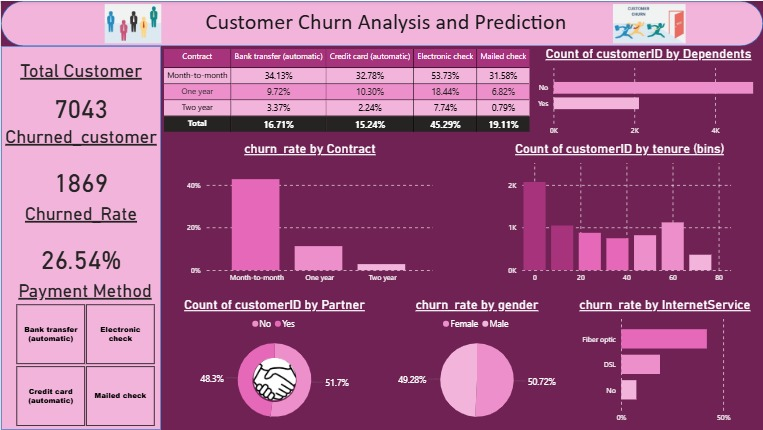

This screenshot's page, from the dashboard's own definition file:
{"tool":"powerbi","page":{"name":"Mathan","canvas":[1280,720],"ordinal":0},"visuals":[{"type":"shape","box":[0,0,1280,75.6],"z":0},{"type":"textbox","box":[285.6,6.7,722.3,63.8],"z":1000},{"type":"shape","box":[0,75.6,268.8,645],"z":2000},{"type":"card","title":"Total Customer","fields":{"Values":["Telco_Customer_Churn_Dataset  (.total_cust"]},"box":[23.5,99.1,221.7,122.6],"z":3000},{"type":"card","title":"Churned_customer","fields":{"Values":["Telco_Customer_Churn_Dataset  (.churned_cust"]},"box":[0,210,268.8,149.5],"z":4000},{"type":"card","title":"Churned_Rate","fields":{"Values":["Telco_Customer_Churn_Dataset  (.churn_rate"]},"box":[0,339.3,268.8,149.5],"z":5000},{"type":"slicer","title":"Payment Method","fields":{"Values":["Telco_Customer_Churn_Dataset  (.PaymentMethod"]},"box":[0,468.7,282.2,252],"z":6000},{"type":"pivotTable","fields":{"Rows":["Telco_Customer_Churn_Dataset  (.Contract"],"Columns":["Telco_Customer_Churn_Dataset  (.PaymentMethod"],"Values":["Telco_Customer_Churn_Dataset  (.churn_rate"]},"box":[268.8,75.6,626.6,152.9],"z":7000},{"type":"clusteredColumnChart","fields":{"Category":["Telco_Customer_Churn_Dataset  (.Contract"],"Y":["Telco_Customer_Churn_Dataset  (.churn_rate"]},"box":[307.4,235.2,423.3,246.9],"z":8000},{"type":"barChart","fields":{"Category":["Telco_Customer_Churn_Dataset  (.InternetService"],"Y":["Telco_Customer_Churn_Dataset  (.churn_rate"]},"box":[965.9,497.2,299,220.1],"z":9000},{"type":"columnChart","fields":{"Y":["CountNonNull(Telco_Customer_Churn_Dataset  (.customerID)"],"Category":["Telco_Customer_Churn_Dataset  (.tenure (bins)"]},"box":[846.6,235.2,384.7,246.9],"z":10000},{"type":"donutChart","fields":{"Category":["Telco_Customer_Churn_Dataset  (.Partner"],"Y":["CountNonNull(Telco_Customer_Churn_Dataset  (.customerID)"]},"box":[268.8,497.2,381.3,223.4],"z":11000},{"type":"pieChart","fields":{"Category":["Telco_Customer_Churn_Dataset  (.gender"],"Y":["Telco_Customer_Churn_Dataset  (.churn_rate"]},"box":[618.2,497.2,362.8,223.4],"z":12000},{"type":"barChart","fields":{"Category":["Telco_Customer_Churn_Dataset  (.Dependents"],"Y":["CountNonNull(Telco_Customer_Churn_Dataset  (.customerID)"]},"box":[895.3,75.6,384.7,159.6],"z":13000},{"type":"image","box":[72.2,0,299,75.6],"z":14000},{"type":"image","box":[939,0,299,75.6],"z":15000},{"type":"image","box":[418.3,594.6,84,80.6],"z":16000}]}

Visuals, with their boxes in screenshot pixels (x1, y1, x2, y2), scaled from the page's 1280x720 canvas onto the 763x430 screenshot:
shape: 0/0/762/45
textbox: 170/4/601/42
shape: 0/45/160/429
"Total Customer" card: 14/59/146/132
"Churned_customer" card: 0/125/160/215
"Churned_Rate" card: 0/203/160/292
"Payment Method" slicer: 0/280/168/429
pivotTable - Telco_Customer_Churn_Dataset  (.Contract x Telco_Customer_Churn_Dataset  (.PaymentMethod: 160/45/534/136
clusteredColumnChart - Telco_Customer_Churn_Dataset  (.Contract x Telco_Customer_Churn_Dataset  (.churn_rate: 183/140/436/288
barChart - Telco_Customer_Churn_Dataset  (.InternetService x Telco_Customer_Churn_Dataset  (.churn_rate: 576/297/754/428
columnChart - CountNonNull(Telco_Customer_Churn_Dataset  (.customerID) x Telco_Customer_Churn_Dataset  (.tenure (bins): 505/140/734/288
donutChart - Telco_Customer_Churn_Dataset  (.Partner x CountNonNull(Telco_Customer_Churn_Dataset  (.customerID): 160/297/388/429
pieChart - Telco_Customer_Churn_Dataset  (.gender x Telco_Customer_Churn_Dataset  (.churn_rate: 369/297/585/429
barChart - Telco_Customer_Churn_Dataset  (.Dependents x CountNonNull(Telco_Customer_Churn_Dataset  (.customerID): 534/45/762/140
image: 43/0/221/45
image: 560/0/738/45
image: 249/355/299/403
